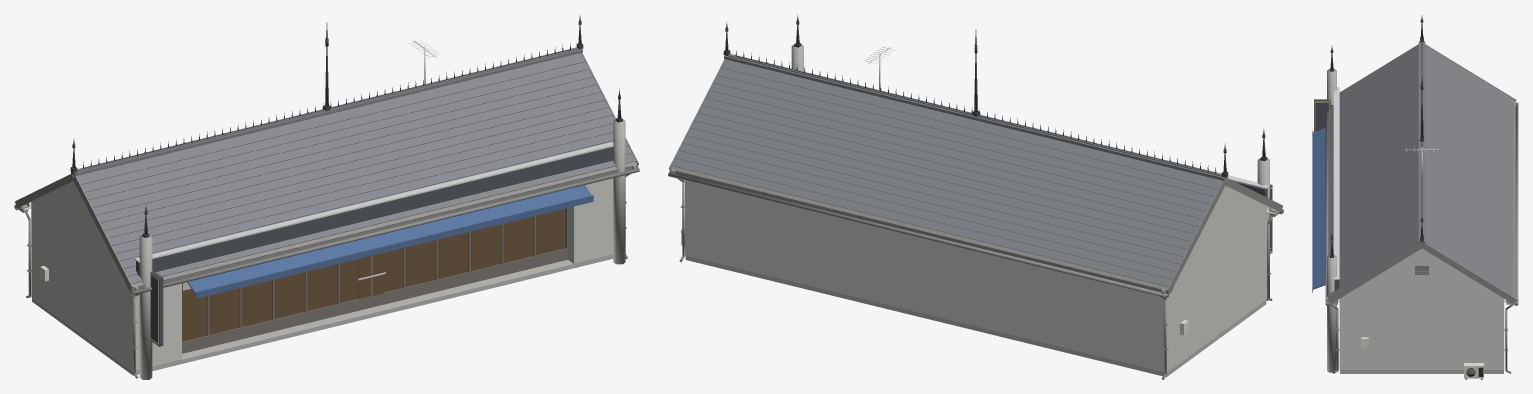
Rendered from blk_stationhall.glb.
3 renders of one model, left to right at view 1: azimuth 30°, elevation 25°; view 2: azimuth 150°, elevation 25°; view 3: azimuth 270°, elevation 25°, orthographic. The views are drawn at different scales.
Visible parts, largest first — view 1: blk_stationhall; view 2: blk_stationhall; view 3: blk_stationhall.
Boxes of the visible parts, left/top/right/bottom form: blk_stationhall: left=14, top=15, right=639, bottom=379; blk_stationhall: left=668, top=14, right=1283, bottom=379; blk_stationhall: left=1312, top=15, right=1518, bottom=379.
Bounding box in the file's own units: 18.99 × 9.14 × 8.14.
